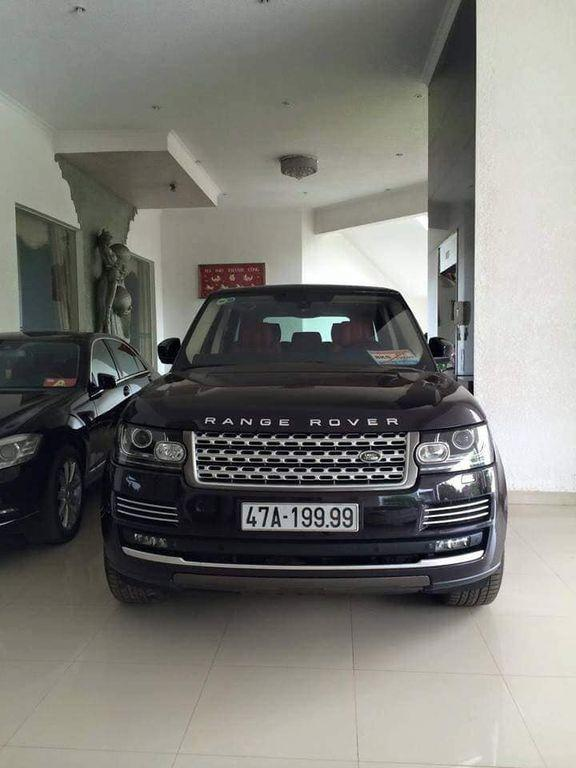numplate: (240, 498, 359, 533)
